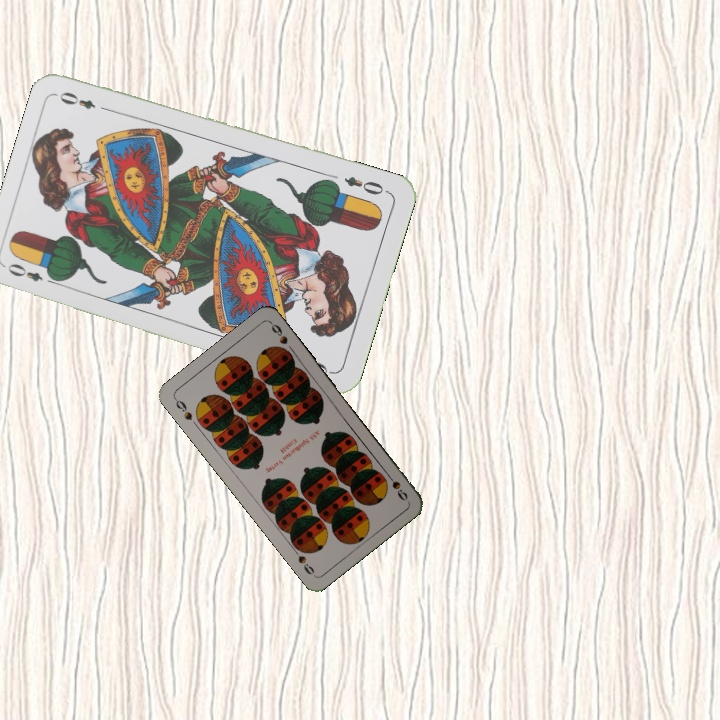EO: (3, 259, 60, 288), (340, 172, 391, 198)
S9: (381, 468, 410, 503), (170, 394, 195, 423)
